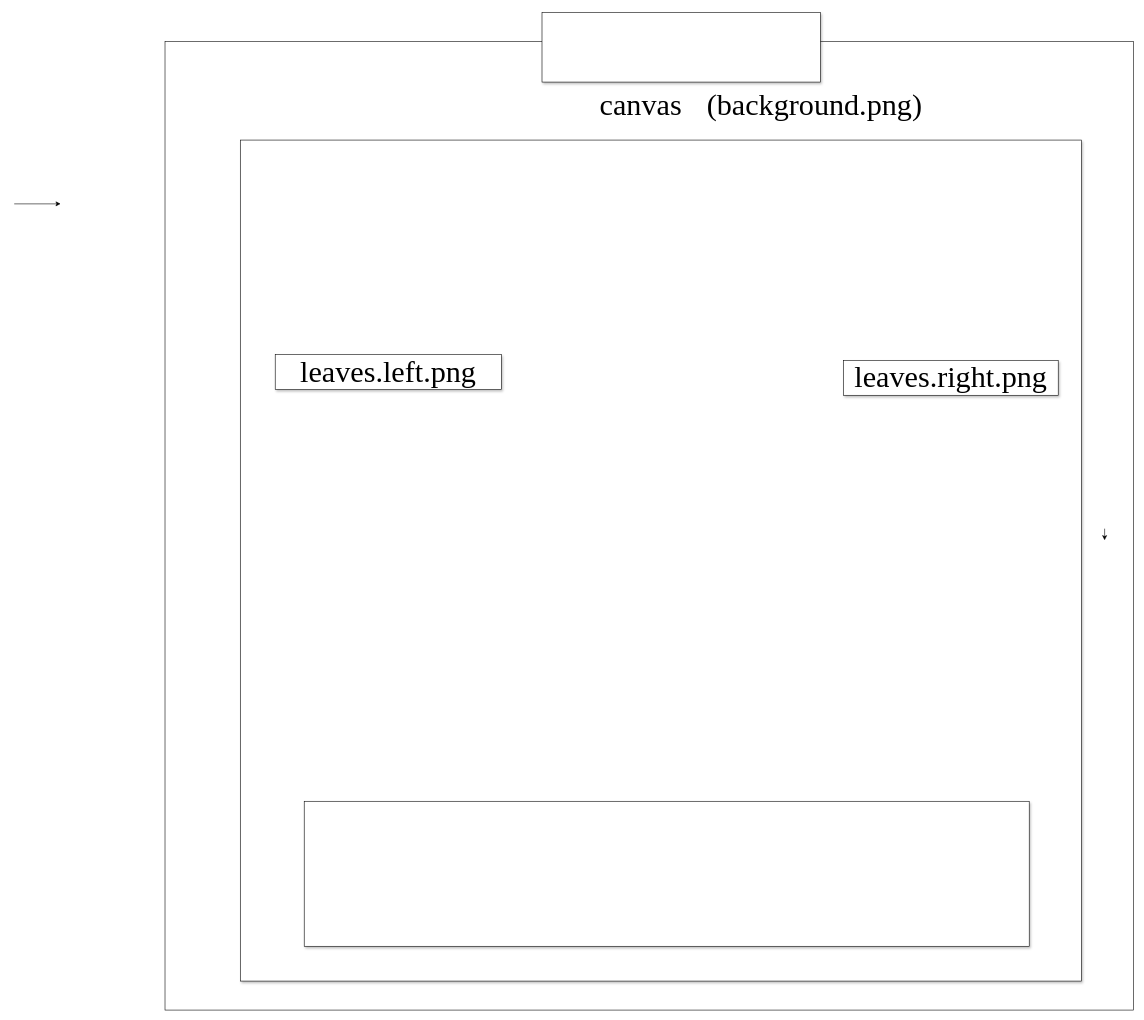
This 1144x1020 diagram has some shape labels left out. Here are the shapes that lost their labels. From the top down, the centre of each, then its label:
At point (681, 48): "wrapper 1280*720".
At point (667, 874): "overlay".
